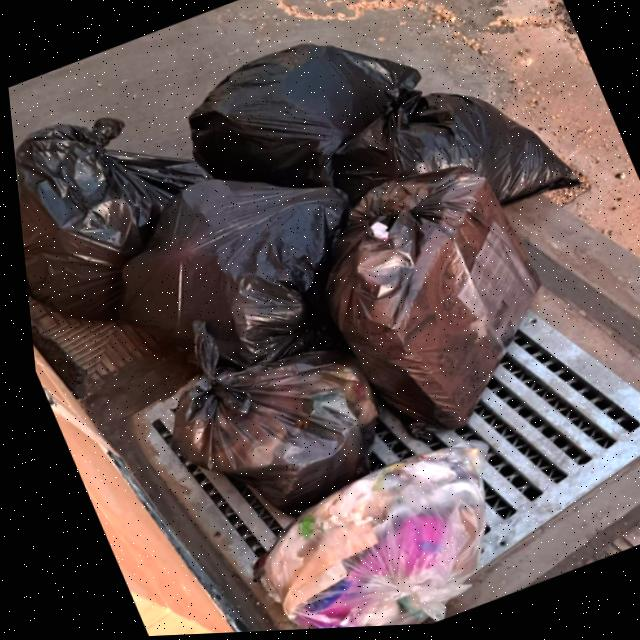Mixed Waste -Black Bag-: (279, 142, 583, 464), (77, 134, 395, 407), (118, 277, 401, 545), (155, 8, 454, 229), (8, 81, 249, 352), (302, 45, 576, 267)
Organic Waste -White Bag-: (219, 433, 537, 635)
